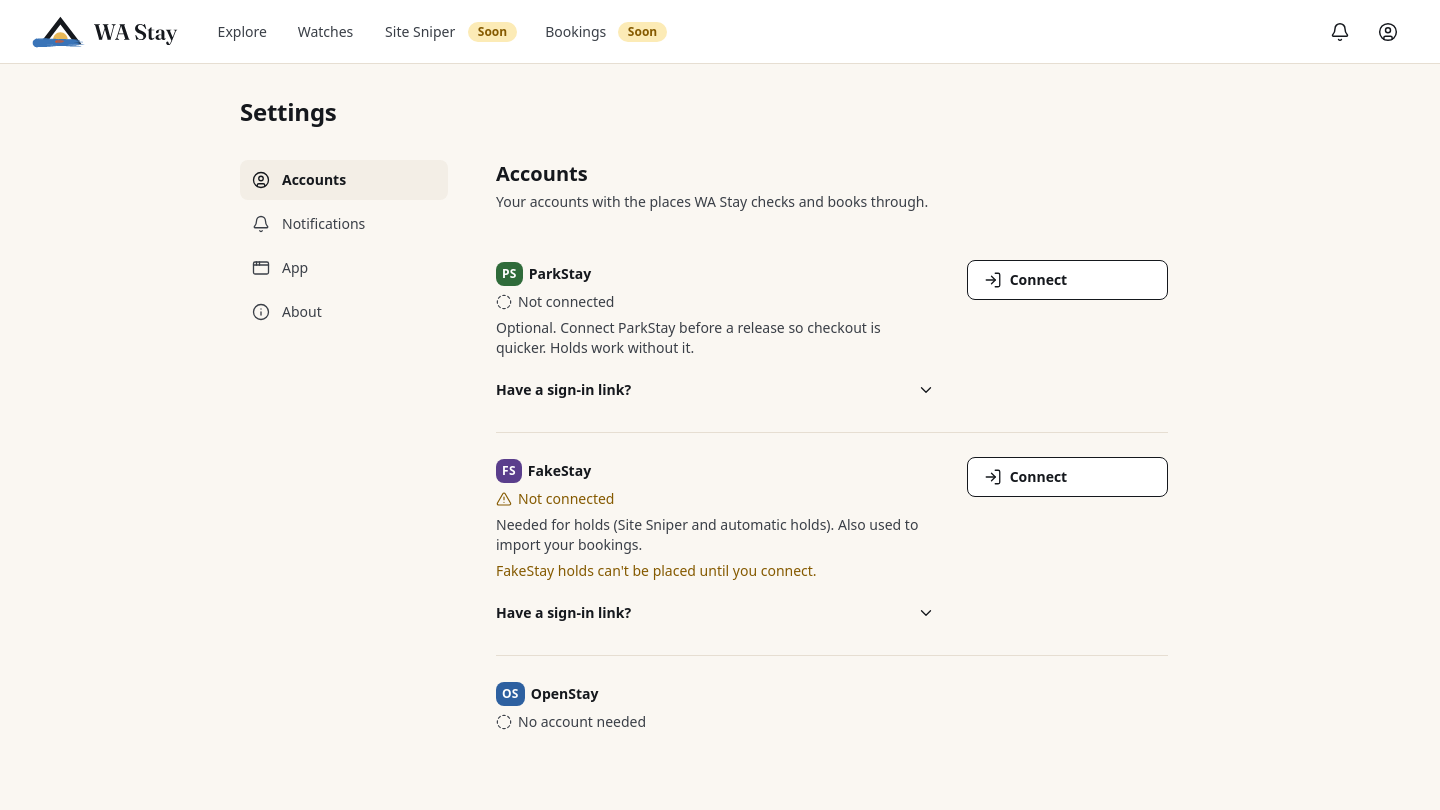
Test case: Settings → Accounts: rows and sign-in › a window closed without signing in reads "Sign-in wasn't completed"; focus returns to Connect
What coordinates should you click on to do the following:
click the button "Connect" in the row of "PS"
I would click on:
 (1067, 280)
Its box is [967,260,1168,300].
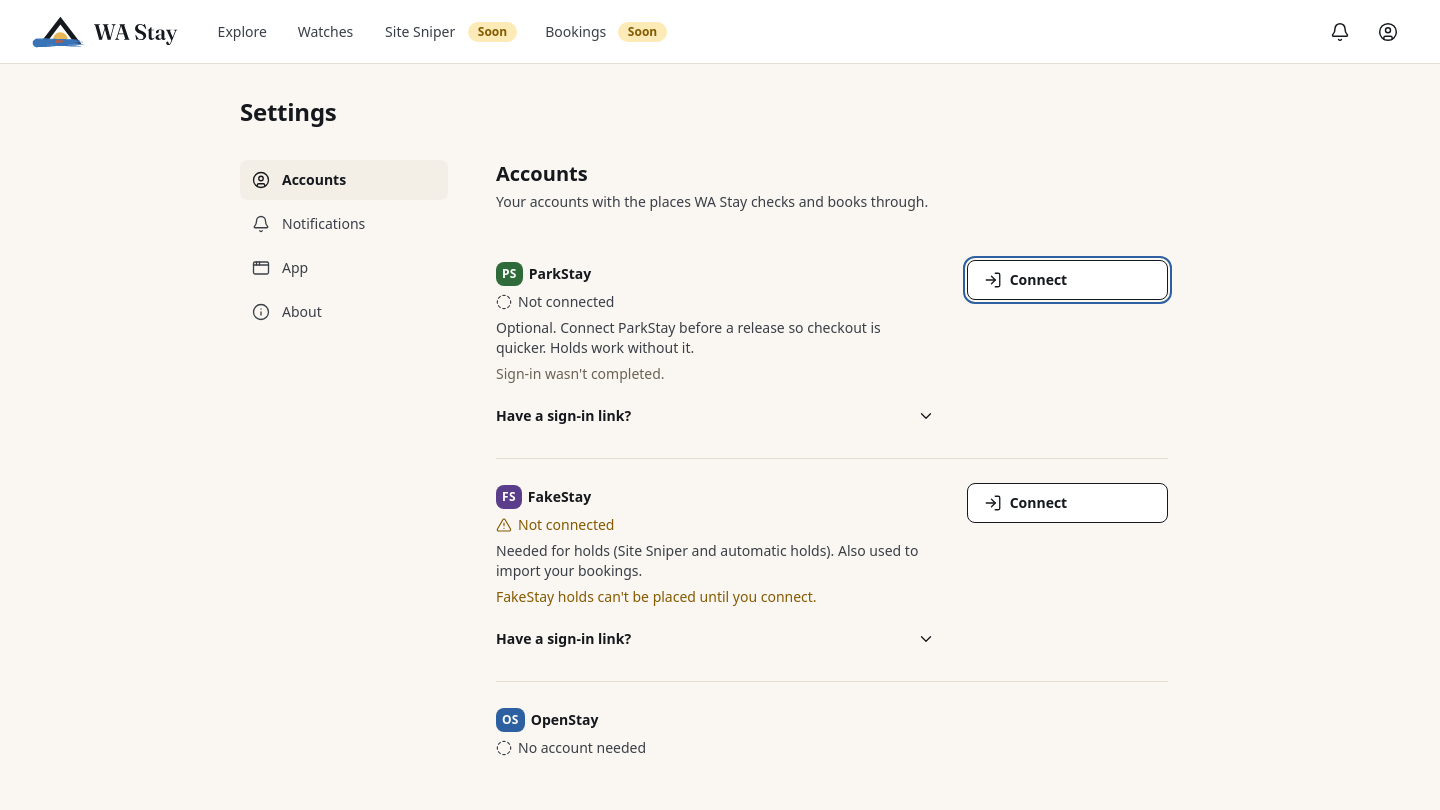
expect the text "Not connected" below "PS" is shown: met, box [518,292,614,311]
expect the text "Sign-in wasn't completed." is shown: met, box [496,364,665,383]
